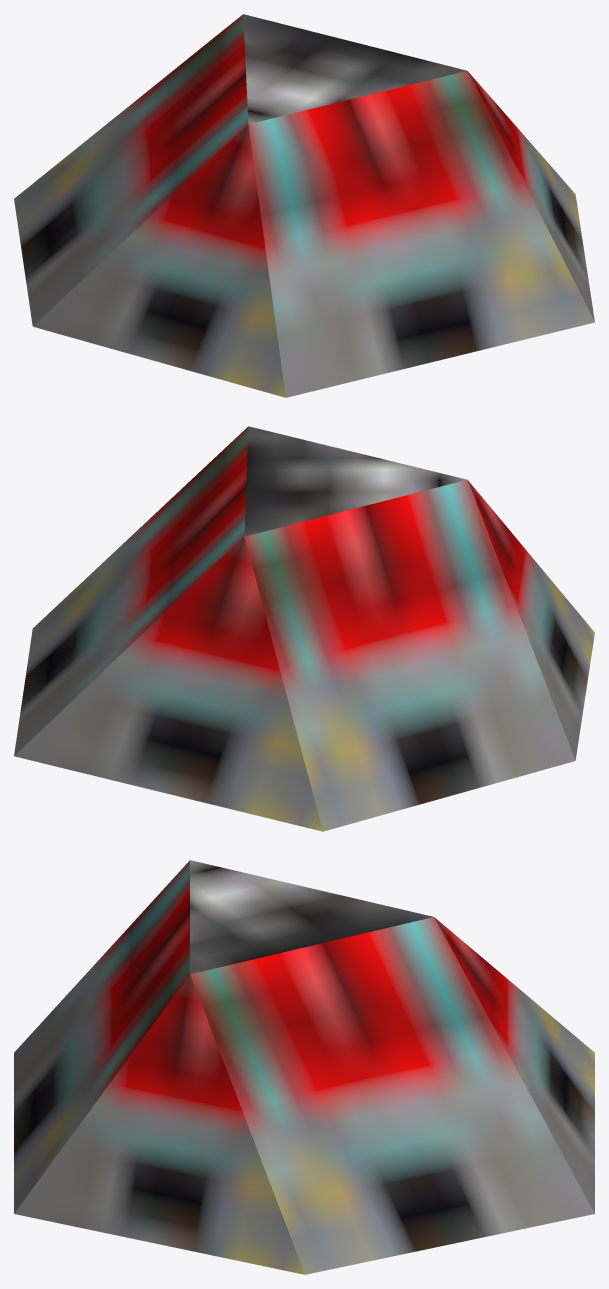
3 views of the same model, one above another, from view 1: azimuth 30°, elevation 25°; view 2: azimuth 150°, elevation 25°; view 3: azimuth 270°, elevation 25° (orthographic). The views are drawn at different scales.
Parts seen in each view (by area): view 1: root; view 2: root; view 3: root.
Part boxes in pixels (x1,y1,x2,y2): root: (14,14,594,397); root: (14,426,594,831); root: (14,860,594,1274).
Bounding box in the file's own units: 0.9434 × 0.3359 × 0.8184.
Materials: 1 (1 with a texture image).
